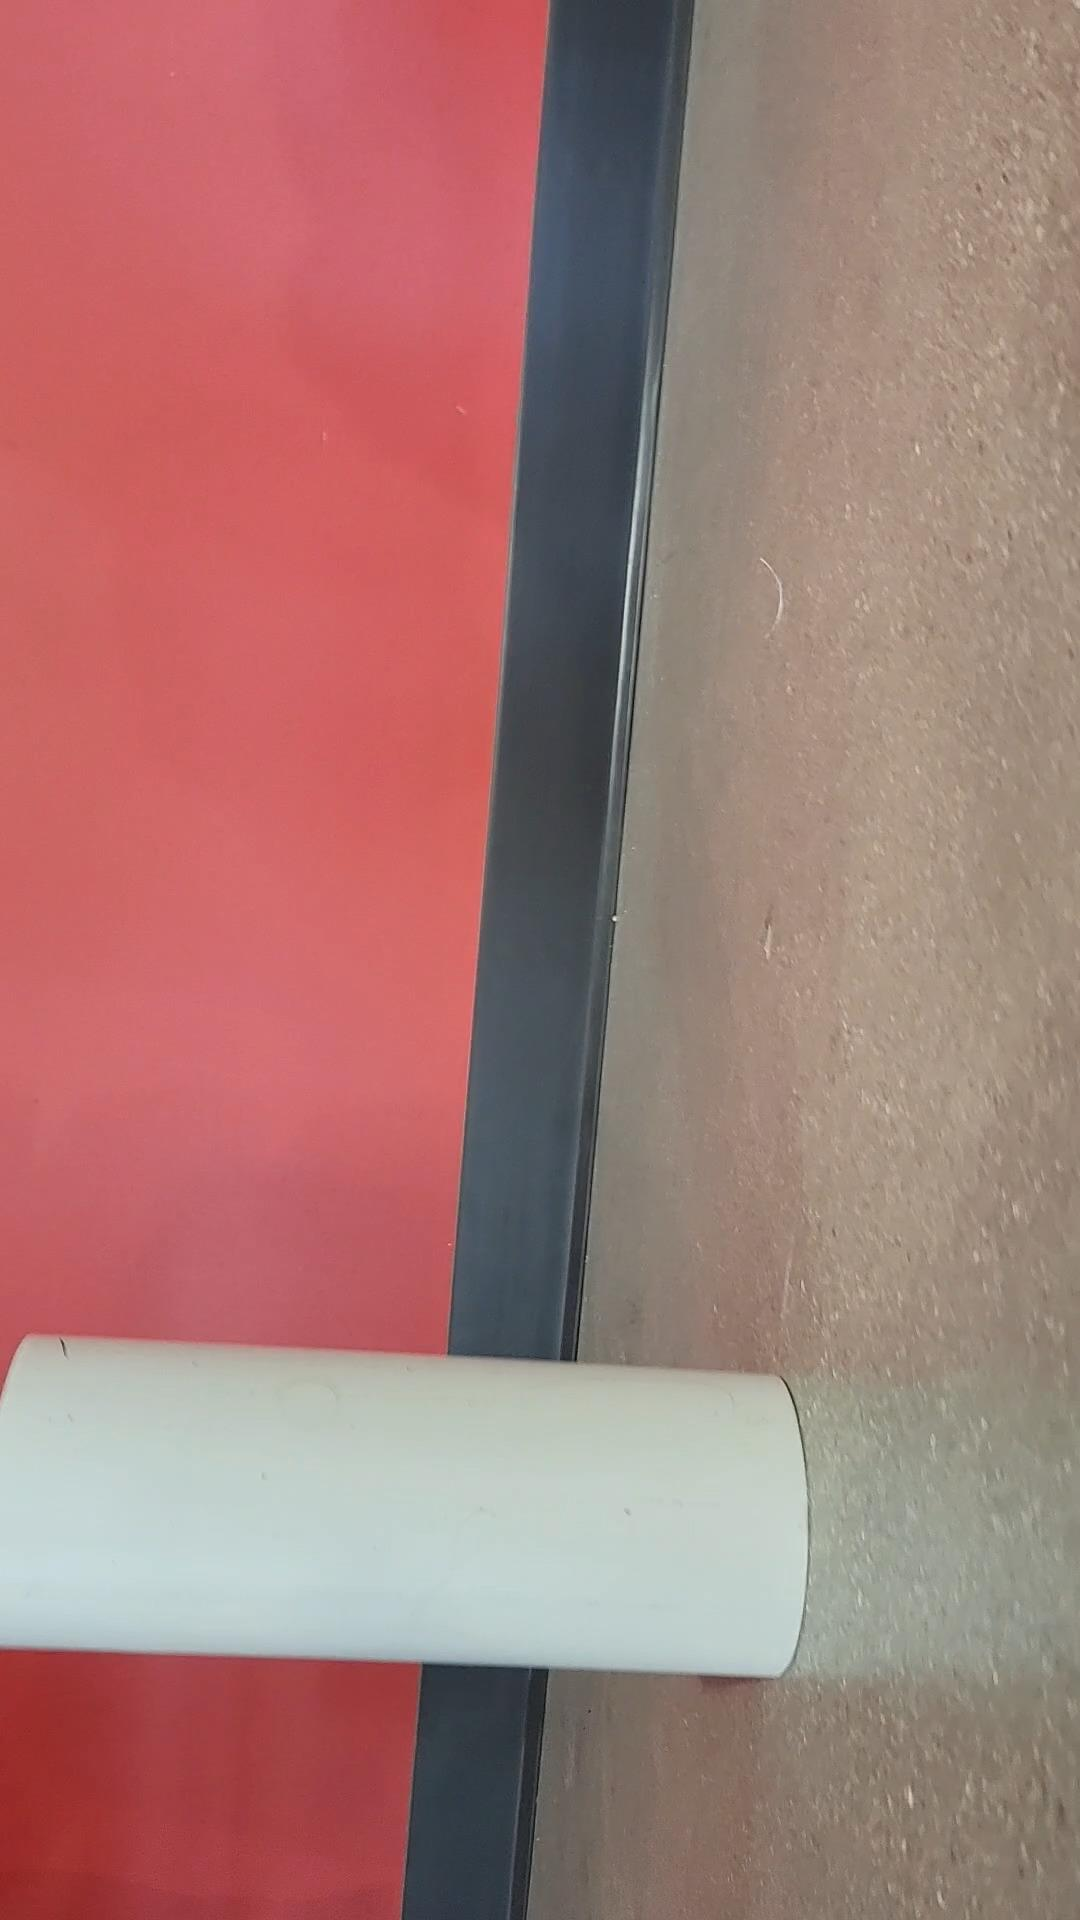coral: (0, 1324, 823, 1693)
